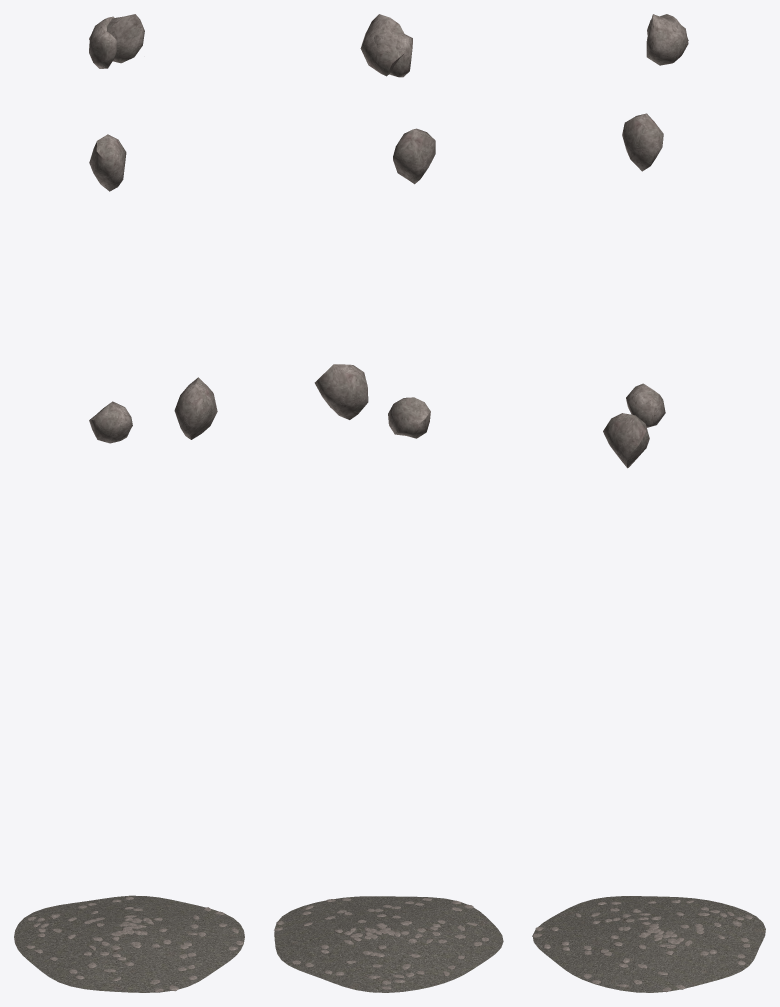
Rendered from ALV-AGR-007_anim.glb.
The picture shows the model from 3 angles, left to right: view 1: azimuth 30°, elevation 25°; view 2: azimuth 150°, elevation 25°; view 3: azimuth 270°, elevation 25°; orthographic projection.
Parts seen in each view (by area): view 1: ALV-AGR-007_anim_monte, ALV-AGR-007_anim_t0, ALV-AGR-007_anim_t2, ALV-AGR-007_anim_t4, ALV-AGR-007_anim_t1, ALV-AGR-007_anim_t3; view 2: ALV-AGR-007_anim_monte, ALV-AGR-007_anim_t0, ALV-AGR-007_anim_t2, ALV-AGR-007_anim_t4, ALV-AGR-007_anim_t1, ALV-AGR-007_anim_t3; view 3: ALV-AGR-007_anim_monte, ALV-AGR-007_anim_t2, ALV-AGR-007_anim_t0, ALV-AGR-007_anim_t4, ALV-AGR-007_anim_t1.
Boxes of the visible parts, <box> form: ALV-AGR-007_anim_monte: <box>14,895,244,992</box>; ALV-AGR-007_anim_t0: <box>174,377,217,439</box>; ALV-AGR-007_anim_t2: <box>89,134,126,191</box>; ALV-AGR-007_anim_t4: <box>89,14,144,63</box>; ALV-AGR-007_anim_t1: <box>89,401,132,443</box>; ALV-AGR-007_anim_t3: <box>89,16,116,68</box>; ALV-AGR-007_anim_monte: <box>274,896,503,992</box>; ALV-AGR-007_anim_t0: <box>314,364,368,419</box>; ALV-AGR-007_anim_t2: <box>393,128,435,184</box>; ALV-AGR-007_anim_t4: <box>360,14,404,76</box>; ALV-AGR-007_anim_t1: <box>388,397,430,438</box>; ALV-AGR-007_anim_t3: <box>374,31,412,77</box>; ALV-AGR-007_anim_monte: <box>532,896,765,992</box>; ALV-AGR-007_anim_t2: <box>622,113,663,171</box>; ALV-AGR-007_anim_t0: <box>603,413,649,468</box>; ALV-AGR-007_anim_t4: <box>646,14,688,65</box>; ALV-AGR-007_anim_t1: <box>626,383,665,427</box>.
Bounding box in the file's own units: 0.243 × 1.08 × 0.2478.
2 materials, 2 textured.
